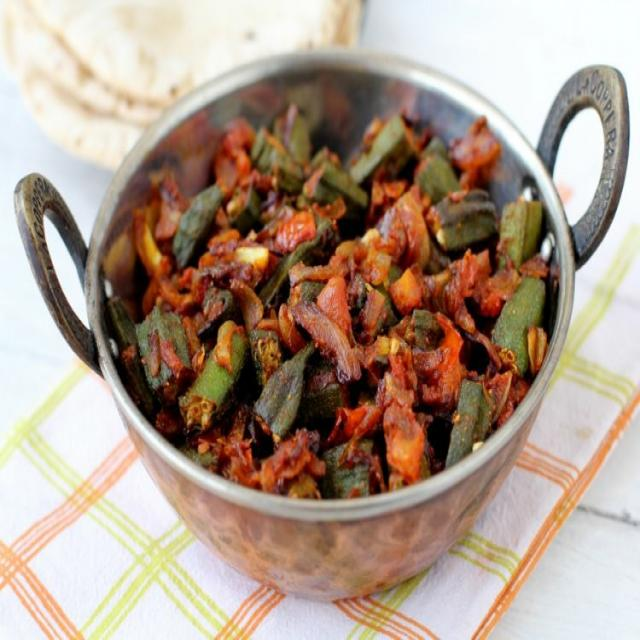BhindiMasala: (106, 106, 549, 501)
